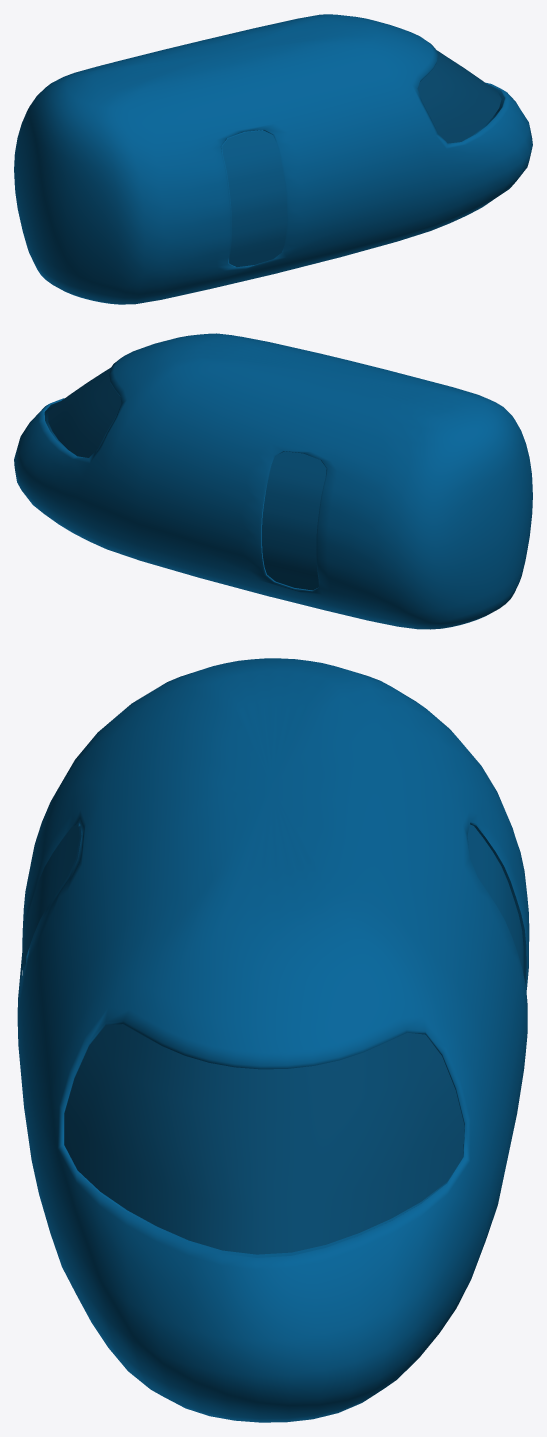
Rendered from train_head.gltf.
3 renders of one model, top to bottom at view 1: azimuth 30°, elevation 25°; view 2: azimuth 150°, elevation 25°; view 3: azimuth 270°, elevation 25°, orthographic. The views are drawn at different scales.
Visible parts, largest first — view 1: Sphere.026; view 2: Sphere.026; view 3: Sphere.026.
Boxes of the visible parts, x1,y1,x2,y2 form: Sphere.026: [14, 14, 532, 304]; Sphere.026: [14, 333, 532, 629]; Sphere.026: [17, 658, 529, 1422].
Bounding box in the file's own units: 6.46 × 2.5 × 2.96.
